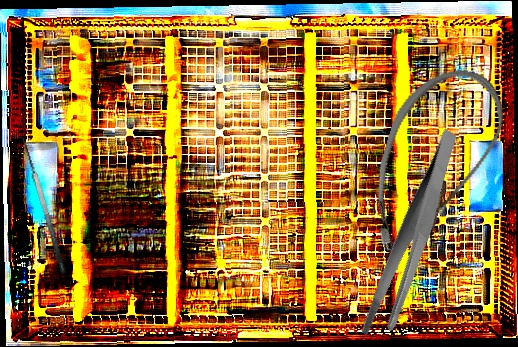Cannula: (356, 53, 515, 273)
Dressing Forceps: (318, 127, 508, 347)
Spatula Surgical: (11, 132, 68, 278)
